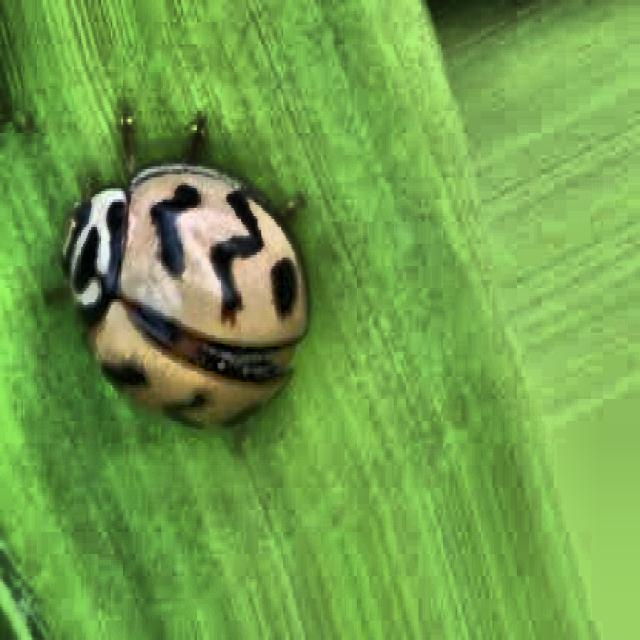Asian-Lady-beetle: (28, 89, 364, 524)
